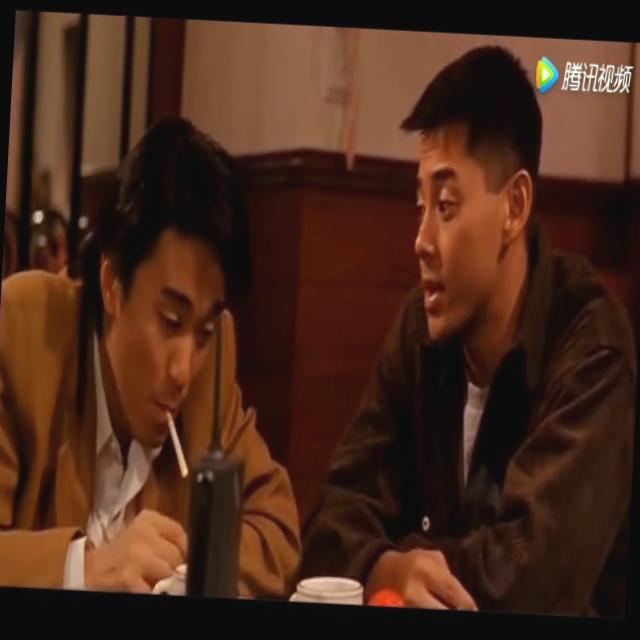smoke: (164, 404, 194, 484)
